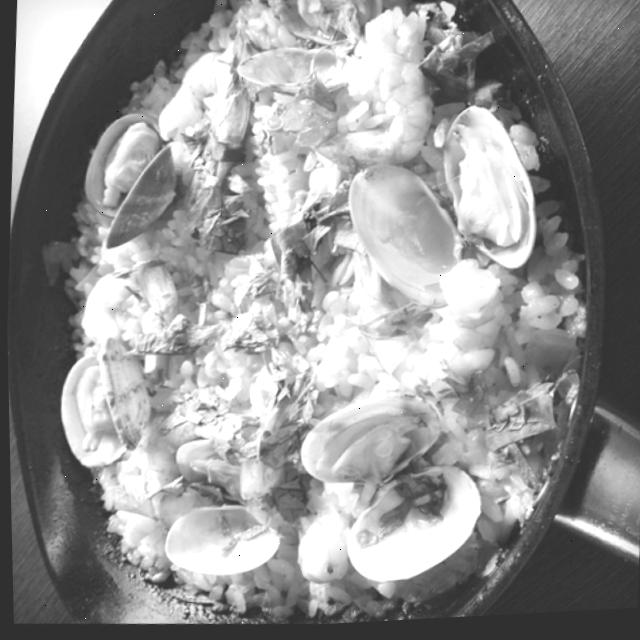鸡蛋料理: (1, 31, 640, 585)
